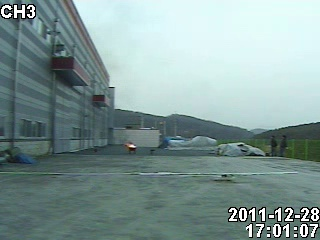fire: (122, 138, 136, 150)
